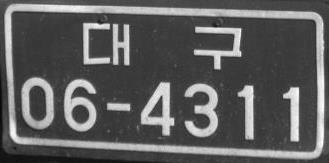0: (20, 75, 55, 129)
1: (229, 84, 268, 139), (276, 85, 312, 141)
3: (183, 82, 219, 139)
4: (139, 80, 174, 137)
6: (62, 76, 98, 131)
대구_D: (82, 20, 243, 71)
